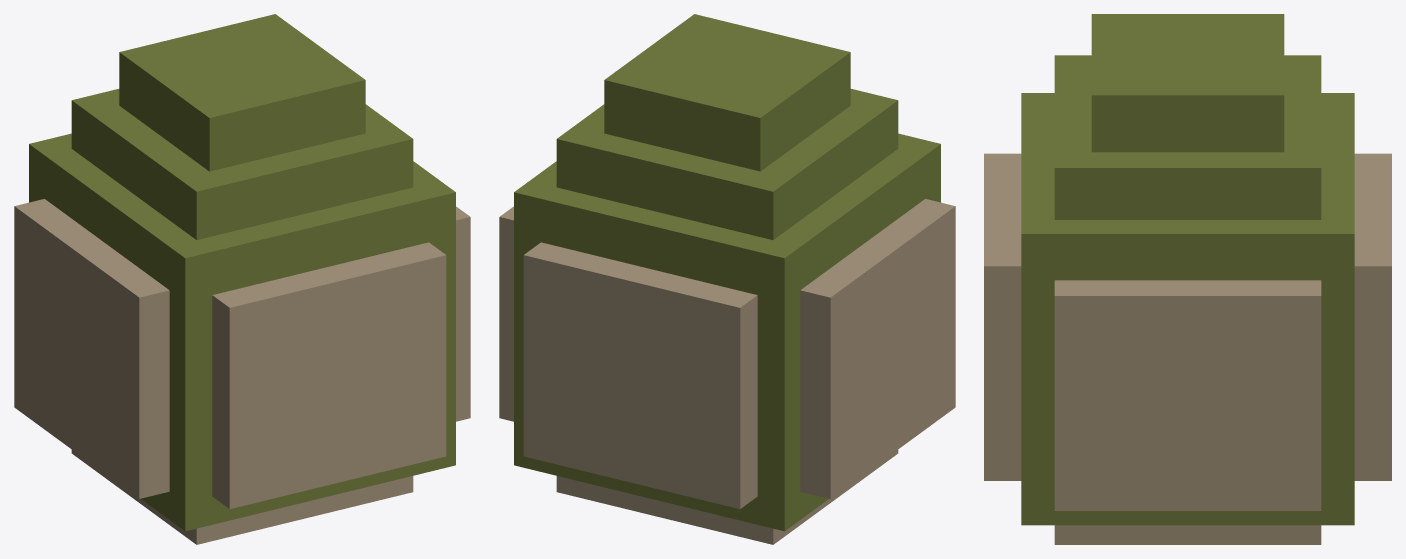
The model's file is 27.Crocodile.fbx.
3 renders of one model, left to right at view 1: azimuth 30°, elevation 25°; view 2: azimuth 150°, elevation 25°; view 3: azimuth 270°, elevation 25°, orthographic. The views are drawn at different scales.
Parts seen in each view (by area): view 1: Crocodile; view 2: Crocodile; view 3: Crocodile.
Boxes of the visible parts, x1=… form: Crocodile: x1=14, y1=14, x2=470, y2=544; Crocodile: x1=499, y1=14, x2=955, y2=544; Crocodile: x1=984, y1=14, x2=1391, y2=544.
Size of the model in its own units: 2.89 by 3.39 by 2.89.
